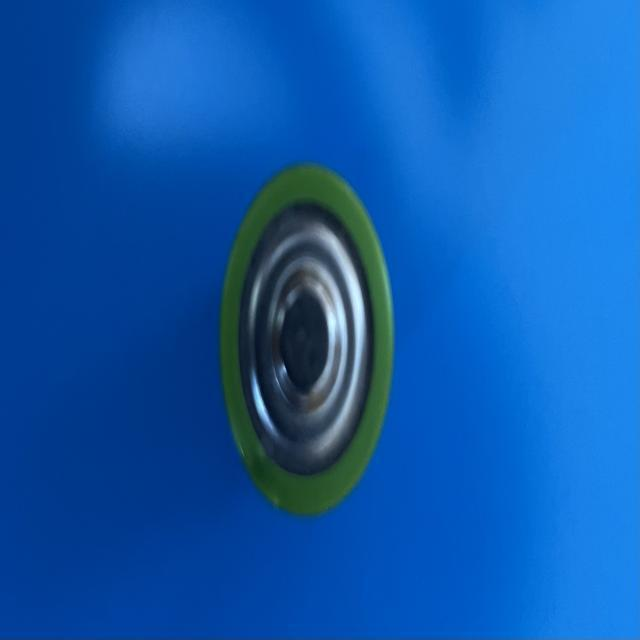Hazard: (218, 161, 396, 518)
